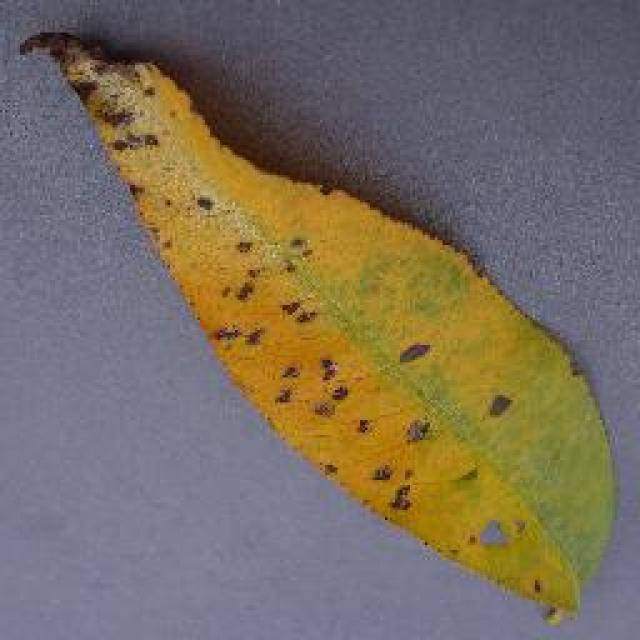Peach_Bacterial_Spot: (115, 50, 537, 492)
